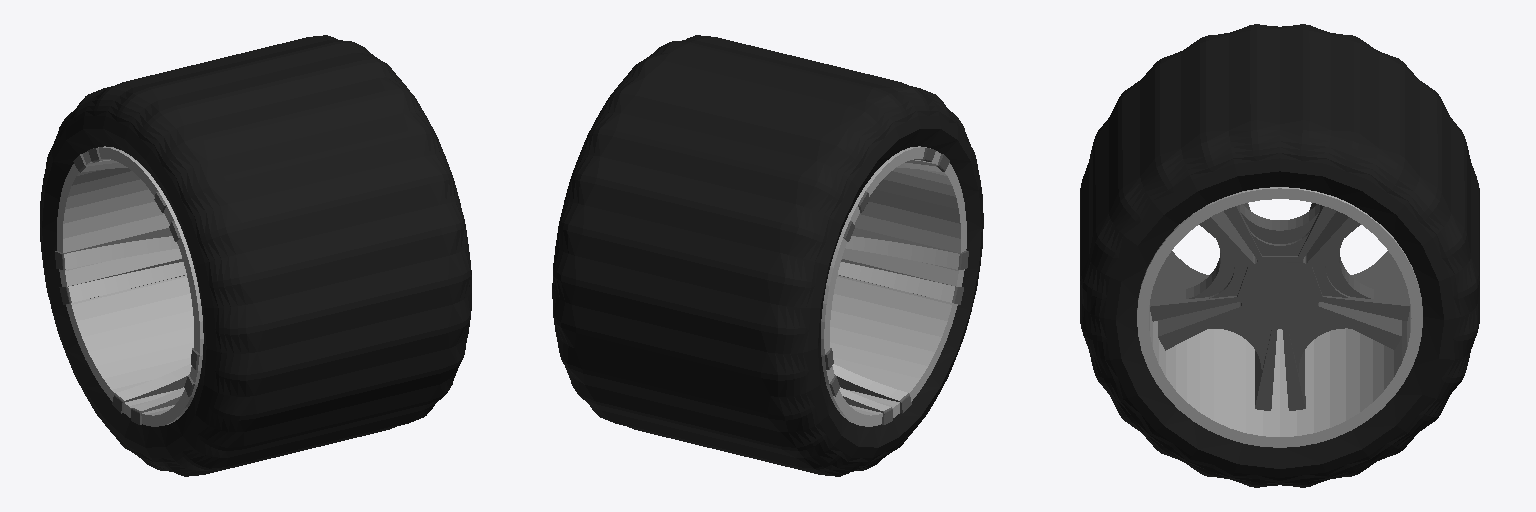
File: TruckWheel.obj
3 renders of one model, left to right at view 1: azimuth 30°, elevation 25°; view 2: azimuth 150°, elevation 25°; view 3: azimuth 270°, elevation 25°, orthographic.
Parts seen in each view (by area): view 1: Mesh7_Group5_Model_Mesh7_Group5_Model_Color_007_Mesh7_Group5_Mo, Mesh4_Group4_Model_Mesh4_Group4_Model_Color_007_Mesh4_Group4_Mo, Mesh3_Group3_Model_Mesh3_Group3_Model_Color_003_Mesh3_Group3_Mo, Mesh6_Group4_Model_Mesh6_Group4_Model_Color_007_Mesh6_Group4_Mo, Mesh2_Group2_Model_Mesh2_Group2_Model_Metal_Aluminum_Anodized_M, Mesh2_Group2_Model_Mesh2_Group2_Model__Gray6__Mesh2_Group2_Mode; view 2: Mesh7_Group5_Model_Mesh7_Group5_Model_Color_007_Mesh7_Group5_Mo, Mesh4_Group4_Model_Mesh4_Group4_Model_Color_007_Mesh4_Group4_Mo, Mesh3_Group3_Model_Mesh3_Group3_Model_Color_003_Mesh3_Group3_Mo, Mesh6_Group4_Model_Mesh6_Group4_Model_Color_007_Mesh6_Group4_Mo, Mesh2_Group2_Model_Mesh2_Group2_Model_Metal_Aluminum_Anodized_M, Mesh2_Group2_Model_Mesh2_Group2_Model__Gray6__Mesh2_Group2_Mode; view 3: Mesh6_Group4_Model_Mesh6_Group4_Model_Color_007_Mesh6_Group4_Mo, Mesh7_Group5_Model_Mesh7_Group5_Model_Color_007_Mesh7_Group5_Mo, Mesh2_Group2_Model_Mesh2_Group2_Model__Gray6__Mesh2_Group2_Mode, Mesh3_Group3_Model_Mesh3_Group3_Model_Color_003_Mesh3_Group3_Mo, Mesh5_Group4_Model_Mesh5_Group4_Model_Color_007_Mesh5_Group4_Mo, Mesh4_Group4_Model_Mesh4_Group4_Model_Color_007_Mesh4_Group4_Mo.
Part boxes in pixels (x1,y1,x2,y2): Mesh7_Group5_Model_Mesh7_Group5_Model_Color_007_Mesh7_Group5_Mo: (107, 37, 452, 474); Mesh4_Group4_Model_Mesh4_Group4_Model_Color_007_Mesh4_Group4_Mo: (40, 82, 263, 476); Mesh3_Group3_Model_Mesh3_Group3_Model_Color_003_Mesh3_Group3_Mo: (57, 146, 203, 426); Mesh6_Group4_Model_Mesh6_Group4_Model_Color_007_Mesh6_Group4_Mo: (313, 35, 471, 427); Mesh2_Group2_Model_Mesh2_Group2_Model_Metal_Aluminum_Anodized_M: (64, 159, 191, 410); Mesh2_Group2_Model_Mesh2_Group2_Model__Gray6__Mesh2_Group2_Mode: (55, 148, 199, 424); Mesh7_Group5_Model_Mesh7_Group5_Model_Color_007_Mesh7_Group5_Mo: (571, 37, 916, 474); Mesh4_Group4_Model_Mesh4_Group4_Model_Color_007_Mesh4_Group4_Mo: (761, 82, 983, 476); Mesh3_Group3_Model_Mesh3_Group3_Model_Color_003_Mesh3_Group3_Mo: (821, 146, 966, 426); Mesh6_Group4_Model_Mesh6_Group4_Model_Color_007_Mesh6_Group4_Mo: (552, 35, 710, 427); Mesh2_Group2_Model_Mesh2_Group2_Model_Metal_Aluminum_Anodized_M: (832, 159, 959, 410); Mesh2_Group2_Model_Mesh2_Group2_Model__Gray6__Mesh2_Group2_Mode: (825, 148, 968, 424); Mesh6_Group4_Model_Mesh6_Group4_Model_Color_007_Mesh6_Group4_Mo: (1080, 120, 1479, 487); Mesh7_Group5_Model_Mesh7_Group5_Model_Color_007_Mesh7_Group5_Mo: (1080, 29, 1479, 319); Mesh2_Group2_Model_Mesh2_Group2_Model__Gray6__Mesh2_Group2_Mode: (1150, 203, 1409, 410); Mesh3_Group3_Model_Mesh3_Group3_Model_Color_003_Mesh3_Group3_Mo: (1137, 187, 1422, 447); Mesh5_Group4_Model_Mesh5_Group4_Model_Color_007_Mesh5_Group4_Mo: (1116, 171, 1443, 468); Mesh4_Group4_Model_Mesh4_Group4_Model_Color_007_Mesh4_Group4_Mo: (1082, 24, 1476, 179).
Size of the model in its own units: 1.41 by 1.86 by 1.86.